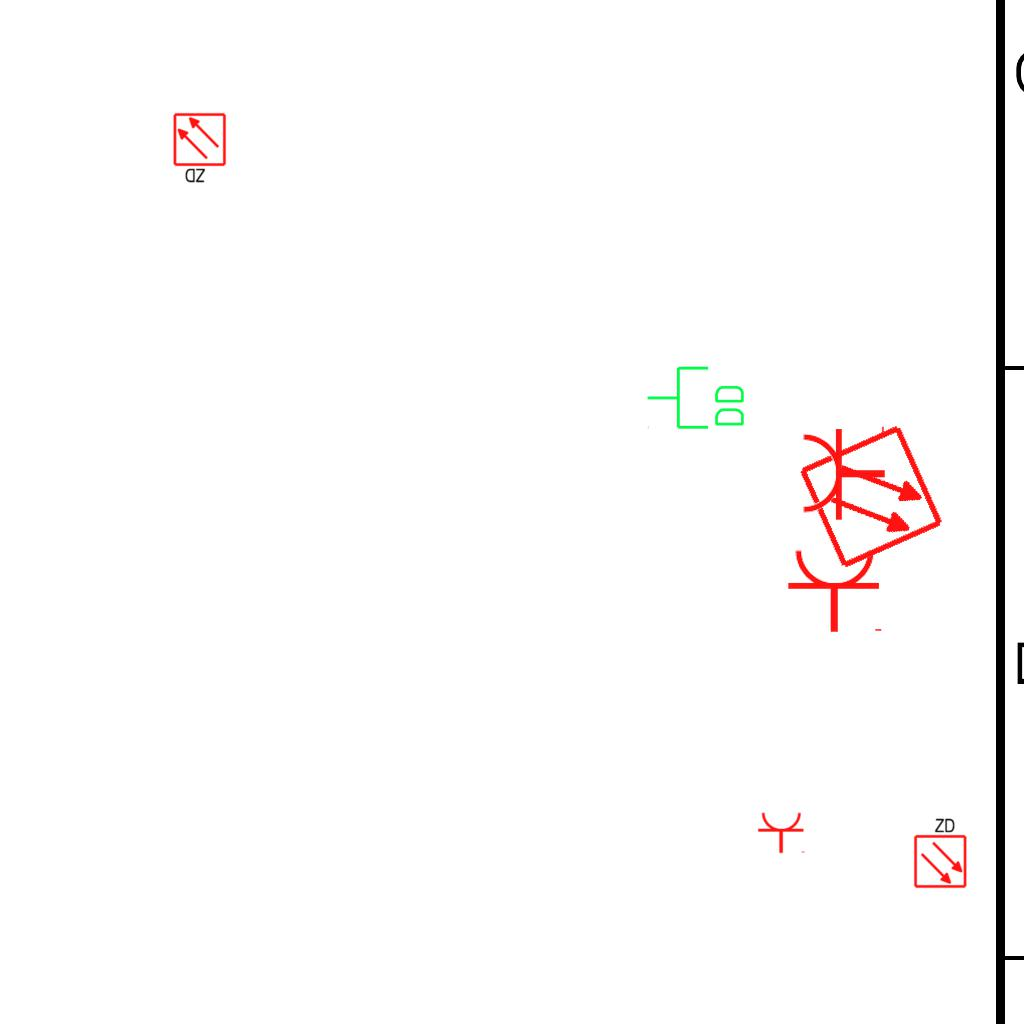Datenanschluss_zweifach: (645, 364, 748, 433)
RMO_Rauchmelder_optischer: (796, 421, 947, 572)
Schukosteckdose_einfach: (786, 547, 886, 634), (800, 422, 887, 522), (757, 811, 807, 854)
ZD_Melder_in_Zwischendecke_mit_Revisionsoeffnung_mind_40_x_40_cm: (172, 112, 229, 186), (911, 815, 968, 889)
